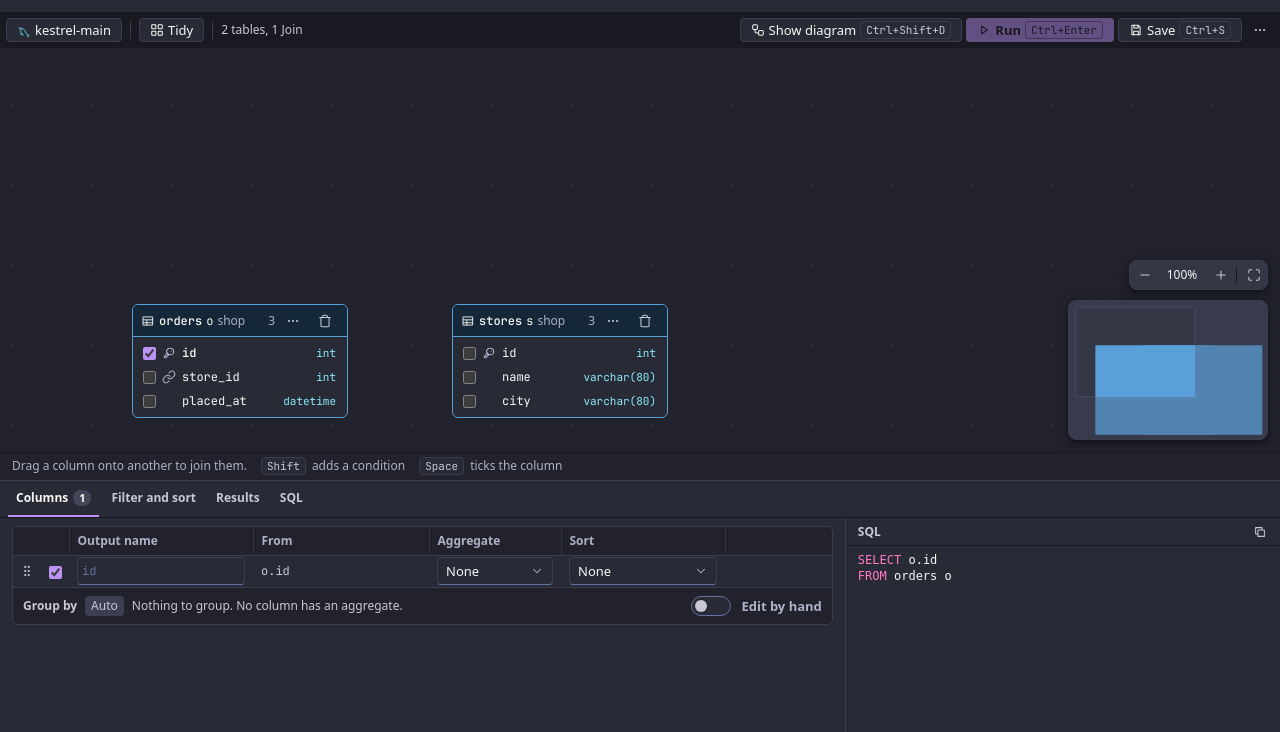
Test: release_the_sql_pane_copies_exactly_what_it_shows
Check: the element named "SQL beside the columns" shows "SELECT o.id", box [845,518,1279,731]
Click the button named "Copy the SQL".
click(1260, 532)  # box [1246,518,1274,546]
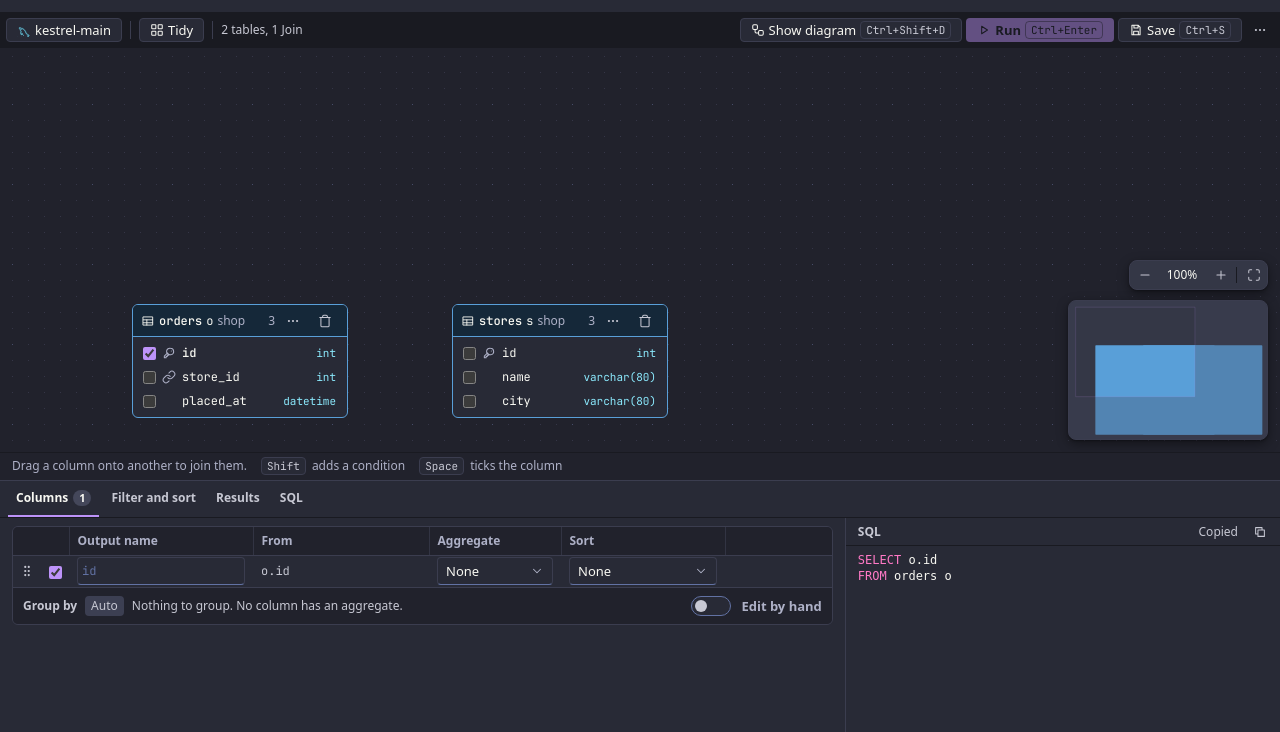
Check: the element showing "SELECT o.id FROM orders o" is shown, box [858,553,952,583]
Check: the message reads "Copied", box [1198,522,1238,540]
